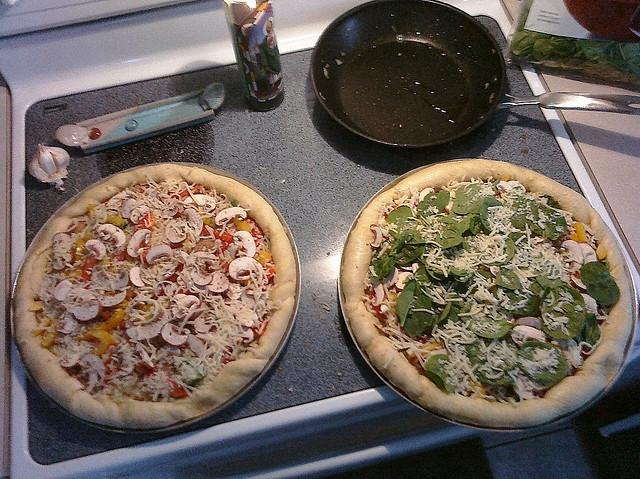garlic: (30, 144, 70, 192)
mushroom: (126, 312, 168, 340), (80, 354, 106, 393), (91, 266, 129, 290), (228, 256, 264, 281), (509, 326, 546, 348), (161, 322, 190, 346), (127, 229, 151, 258), (72, 298, 102, 321), (98, 224, 126, 248), (215, 206, 248, 226), (233, 230, 256, 257), (182, 208, 204, 236), (172, 296, 200, 318), (184, 194, 216, 212), (52, 347, 80, 367), (81, 238, 106, 260), (562, 240, 584, 265), (207, 271, 230, 294), (55, 311, 78, 334), (146, 244, 173, 263), (108, 191, 130, 214), (580, 292, 601, 316), (95, 290, 126, 306), (166, 221, 187, 243), (54, 280, 76, 301), (52, 234, 74, 254), (578, 243, 598, 265), (187, 334, 204, 358), (568, 274, 588, 294), (130, 205, 150, 224), (190, 269, 212, 286), (395, 272, 414, 290), (121, 198, 137, 218), (130, 266, 145, 287), (370, 224, 383, 248), (371, 283, 384, 306), (226, 284, 242, 300), (194, 318, 212, 332), (419, 187, 435, 202), (238, 328, 254, 342), (496, 180, 513, 191), (59, 253, 72, 264), (193, 251, 215, 257), (60, 335, 72, 345), (172, 294, 188, 301)
